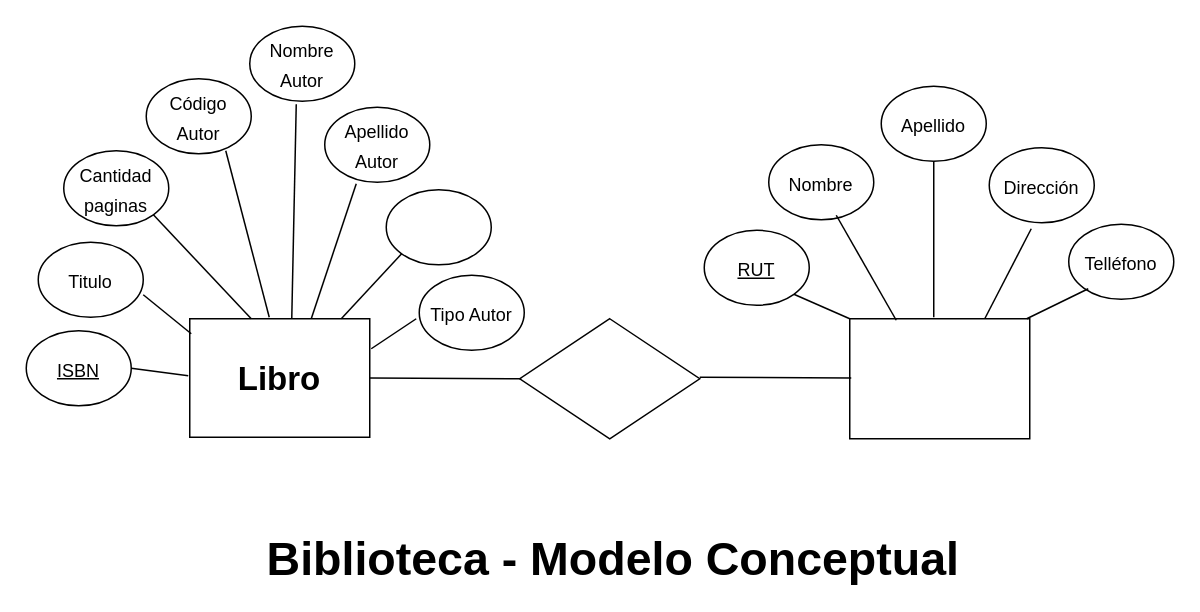
Image size: 1200x612. Some labels were removed from this diagram. The centre of each missing label's shape, as x and y in pixels:
Nacimiento-Muerte: point 438,226
Préstamo: point 609,378
Socio: point 939,378
